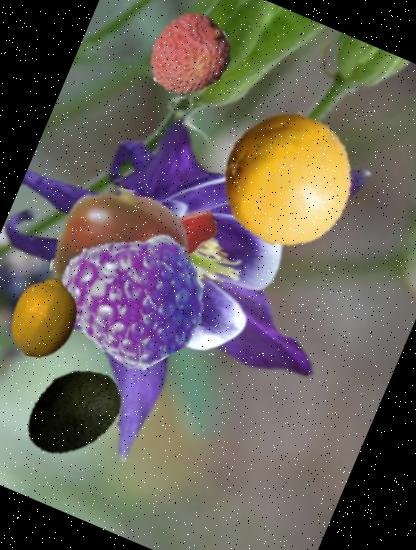Avocado: (5, 344, 140, 479)
Banana: (33, 221, 196, 384)
Grapefruit: (198, 90, 376, 268)
Lemon: (0, 264, 98, 372)
Lychee: (132, 0, 243, 110)
Raspberry: (45, 208, 225, 388)
Tomato: (30, 168, 210, 348), (131, 186, 231, 286)
